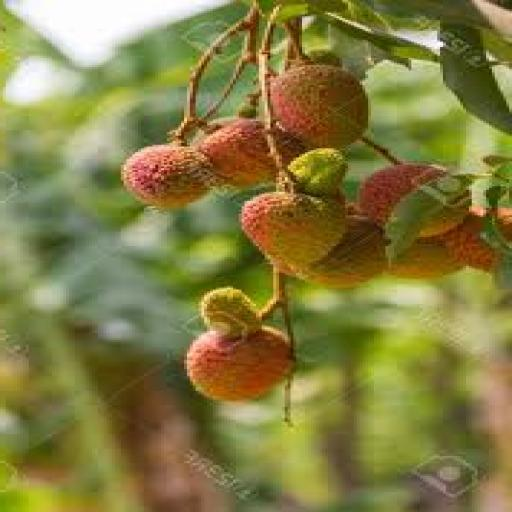lychee: (270, 64, 367, 148), (241, 192, 344, 269), (186, 328, 292, 401), (299, 216, 384, 287), (120, 145, 214, 208), (359, 163, 453, 226), (198, 118, 275, 188), (440, 209, 496, 271), (385, 238, 462, 278), (198, 288, 260, 336), (287, 149, 347, 197)
